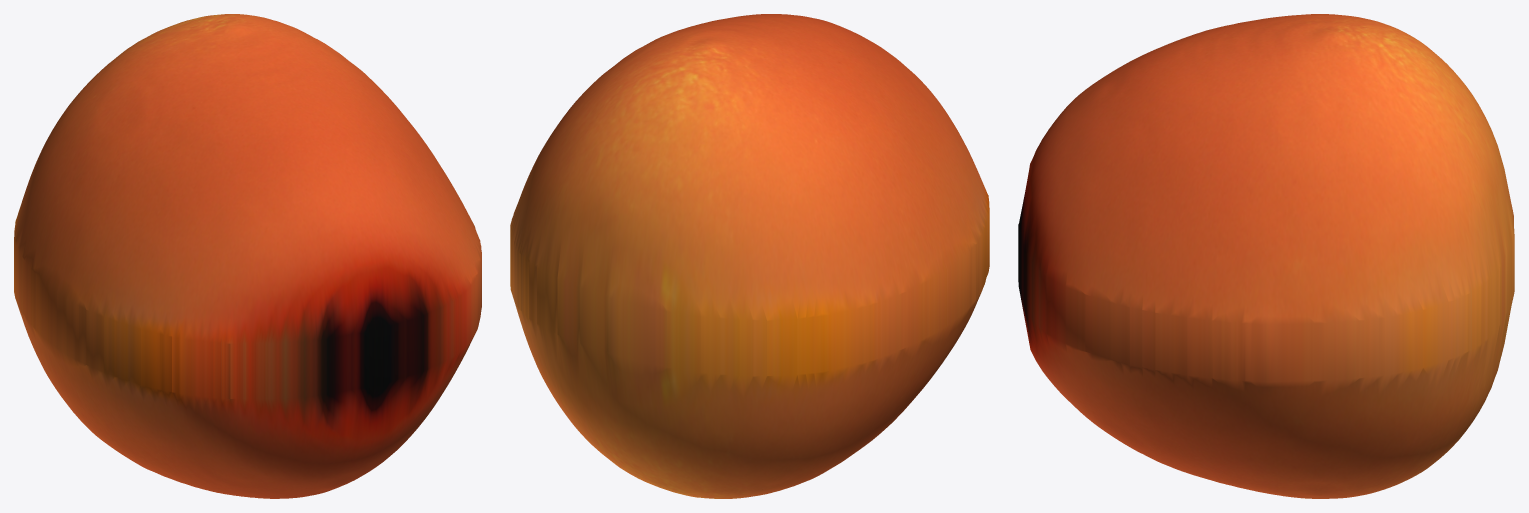
Rendered from orange_5.obj.
3 views of the same model, side by side, from view 1: azimuth 30°, elevation 25°; view 2: azimuth 150°, elevation 25°; view 3: azimuth 270°, elevation 25° (orthographic). The views are drawn at different scales.
Visible parts, largest first — view 1: Grid; view 2: Grid; view 3: Grid.
Boxes of the visible parts, left/top/right/bottom form: Grid: left=14, top=14, right=481, bottom=498; Grid: left=510, top=14, right=989, bottom=498; Grid: left=1018, top=14, right=1514, bottom=498.
Size of the model in its own units: 1.5 by 1.59 by 1.58.
Materials: 1 (1 with a texture image).
